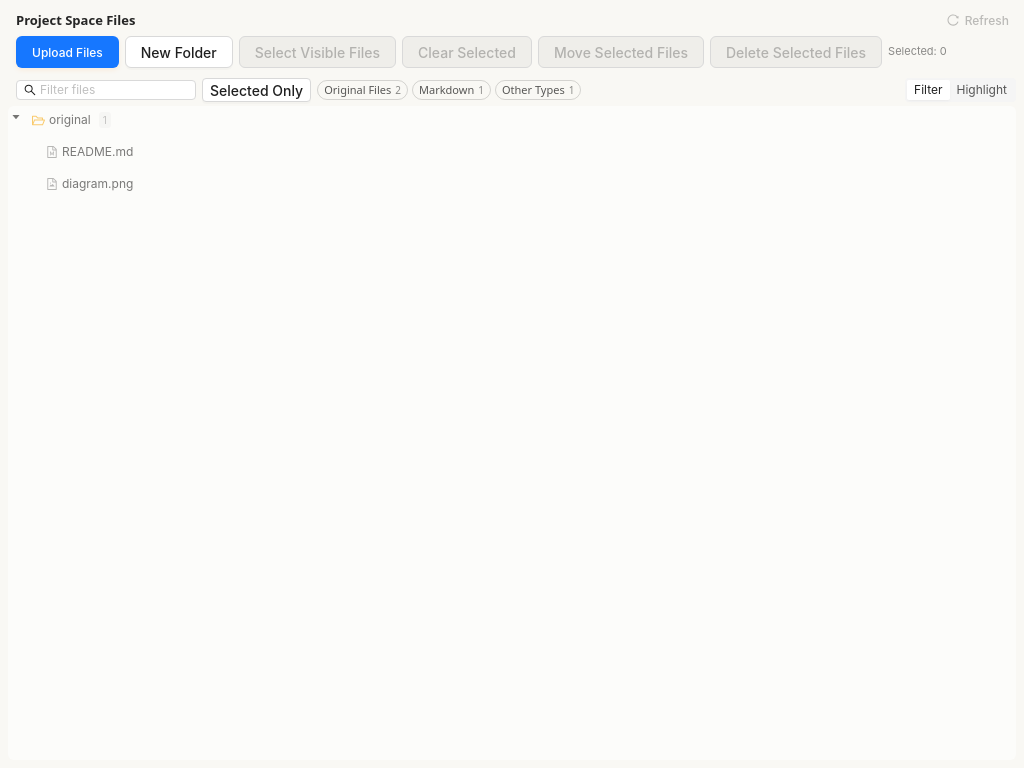
Test case: ProjectFileTree interactions › filters the tree with a file-type chip and clears it on the second click
Expected: the text "README.md" is shown, [62,140,133,164]
Expected: the text "diagram.png" is shown, [62,172,133,196]
Click the button "Markdown 1". click: (452, 90)
box: [412,80,491,100]
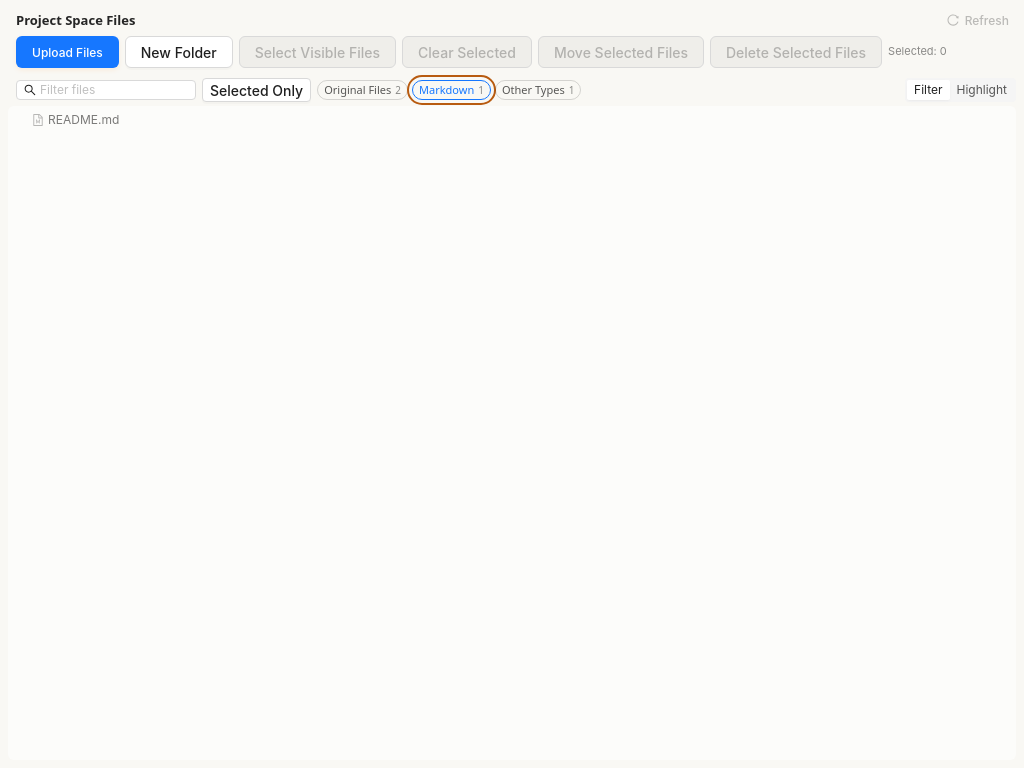
Expected: the text "README.md" is shown, [48,108,119,132]
Result: the text "diagram.png" is gone
Click the button "Markdown 1". click: (452, 90)
box: [412,80,491,100]
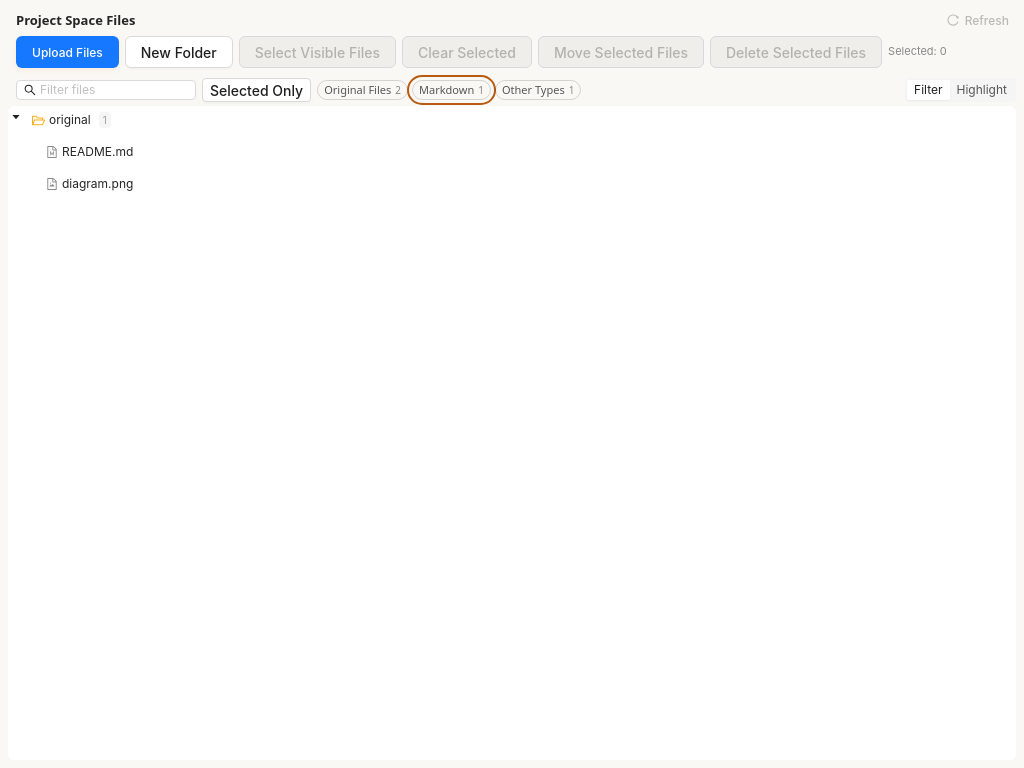
Result: the text "diagram.png" is shown at [62,172,133,196]
